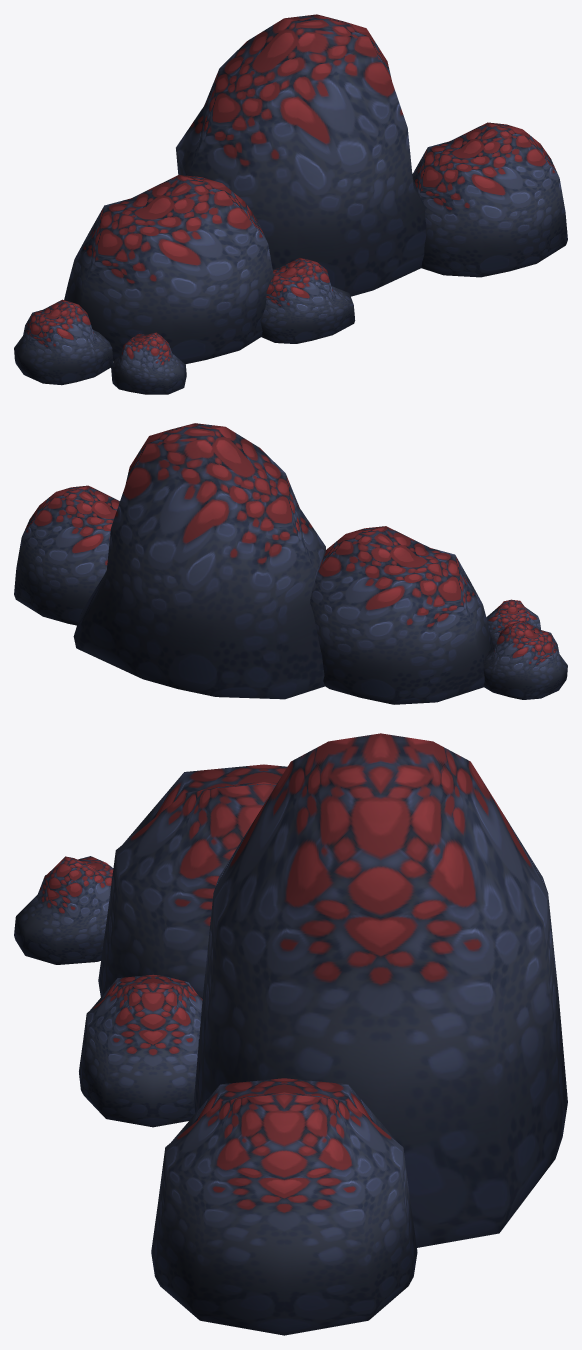
The model's file is Rock_03_Group3.FBX.
3 renders of one model, top to bottom at view 1: azimuth 30°, elevation 25°; view 2: azimuth 150°, elevation 25°; view 3: azimuth 270°, elevation 25°, orthographic. The views are drawn at different scales.
Visible parts, largest first — view 1: Rock_03_Group3; view 2: Rock_03_Group3; view 3: Rock_03_Group3.
Boxes of the visible parts, x1,y1,x2,y2 form: Rock_03_Group3: (14,14,567,394); Rock_03_Group3: (14,423,567,704); Rock_03_Group3: (14,733,567,1335).
Bounding box in the file's own units: 164 × 65.36 × 80.75.
